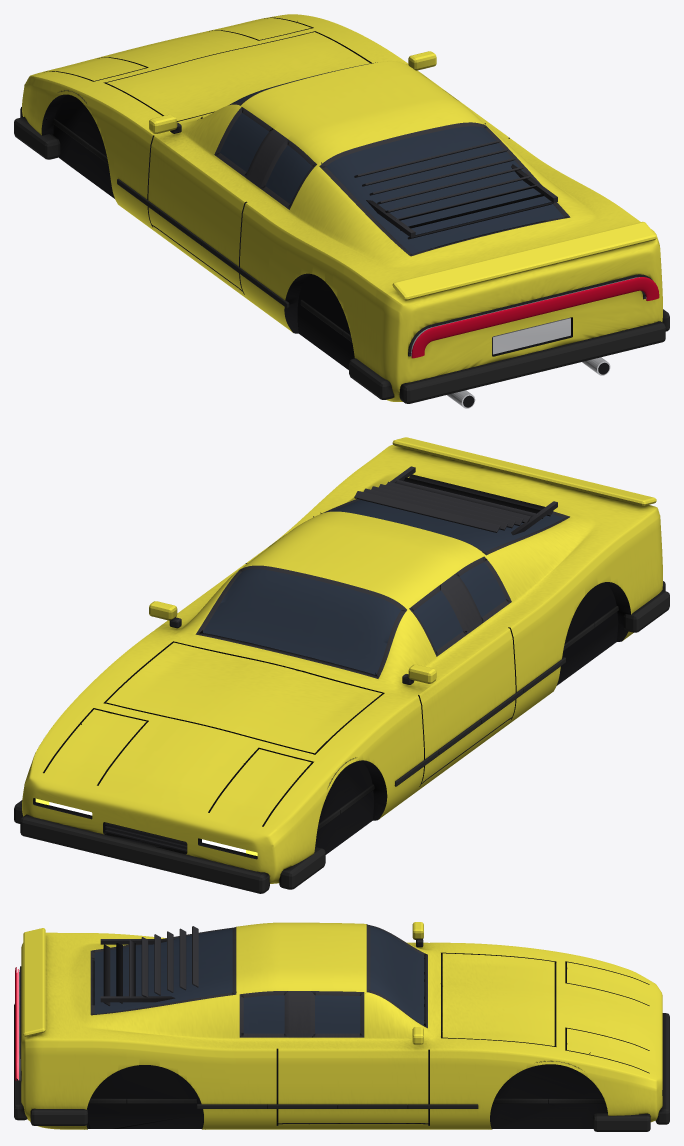
File: wedge.glb
3 renders of one model, top to bottom at view 1: azimuth 30°, elevation 25°; view 2: azimuth 150°, elevation 25°; view 3: azimuth 270°, elevation 25°, orthographic. The views are drawn at different scales.
Visible parts, largest first — view 1: body, glass_panes, part.011, part.047, tail_lens, part.014, part.009, part.012, tail_housing; view 2: body, glass_panes, part.008, part.047, part.021, part.012, part.009, part.022, part.028, part.023, part.025, part.024 (+2 smaller); view 3: body, glass_panes, part.047, part.010, part.013, part.008, part.022, part.030, part.025, part.011, part.028, part.044 (+11 smaller).
Part boxes in pixels (x1=…): body: x1=22, y1=14, x2=662, y2=401; glass_panes: x1=220, y1=63, x2=563, y2=253; part.011: x1=399, y1=321, x2=665, y2=403; part.047: x1=392, y1=221, x2=656, y2=300; tail_lens: x1=411, y1=277, x2=659, y2=358; part.014: x1=492, y1=317, x2=570, y2=354; part.009: x1=14, y1=117, x2=60, y2=159; part.012: x1=349, y1=358, x2=394, y2=399; tail_housing: x1=408, y1=274, x2=651, y2=356; body: x1=22, y1=445, x2=662, y2=883; glass_panes: x1=203, y1=500, x2=563, y2=674; part.008: x1=20, y1=814, x2=269, y2=893; part.047: x1=392, y1=437, x2=656, y2=506; part.021: x1=354, y1=491, x2=500, y2=532; part.012: x1=623, y1=590, x2=669, y2=632; part.009: x1=279, y1=847, x2=325, y2=889; part.022: x1=363, y1=488, x2=507, y2=530; part.028: x1=409, y1=474, x2=553, y2=516; part.023: x1=371, y1=486, x2=515, y2=528; part.025: x1=386, y1=481, x2=530, y2=522; part.024: x1=379, y1=484, x2=523, y2=525; body: x1=21, y1=922, x2=662, y2=1129; glass_panes: x1=94, y1=926, x2=424, y2=1033; part.047: x1=23, y1=928, x2=45, y2=1036; part.010: x1=593, y1=1113, x2=650, y2=1131; part.013: x1=30, y1=1108, x2=87, y2=1125; part.008: x1=655, y1=1013, x2=669, y2=1124; part.022: x1=179, y1=928, x2=186, y2=990; part.030: x1=100, y1=996, x2=175, y2=1002; part.025: x1=141, y1=937, x2=148, y2=997; part.011: x1=14, y1=1004, x2=27, y2=1120; part.028: x1=103, y1=944, x2=110, y2=1005; part.044: x1=126, y1=1098, x2=197, y2=1103.
Size of the model in its own units: 1.93 by 1.05 by 4.57.
